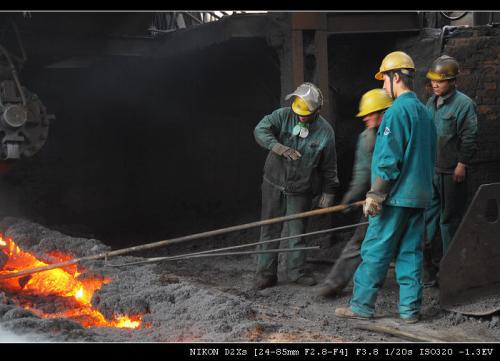helmet: (373, 48, 419, 99), (355, 87, 393, 135), (428, 56, 461, 94), (288, 87, 319, 121)
